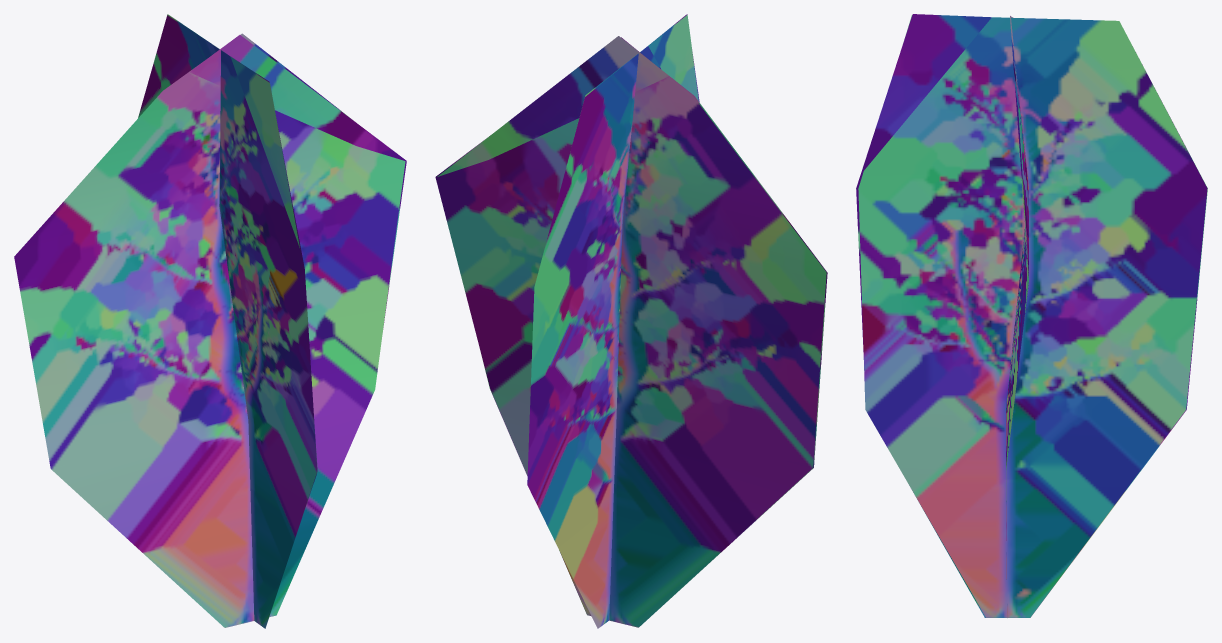
Rendered from beech_tree_09_cross.FBX.
3 renders of one model, left to right at view 1: azimuth 30°, elevation 25°; view 2: azimuth 150°, elevation 25°; view 3: azimuth 270°, elevation 25°, orthographic.
Parts seen in each view (by area): view 1: beech_tree_09_cross; view 2: beech_tree_09_cross; view 3: beech_tree_09_cross.
Part boxes in pixels (bbox=[...]): beech_tree_09_cross: bbox=[14, 14, 406, 628]; beech_tree_09_cross: bbox=[435, 14, 827, 628]; beech_tree_09_cross: bbox=[856, 14, 1207, 617].
Bounding box in the file's own units: 15814 × 22670 × 12109.
